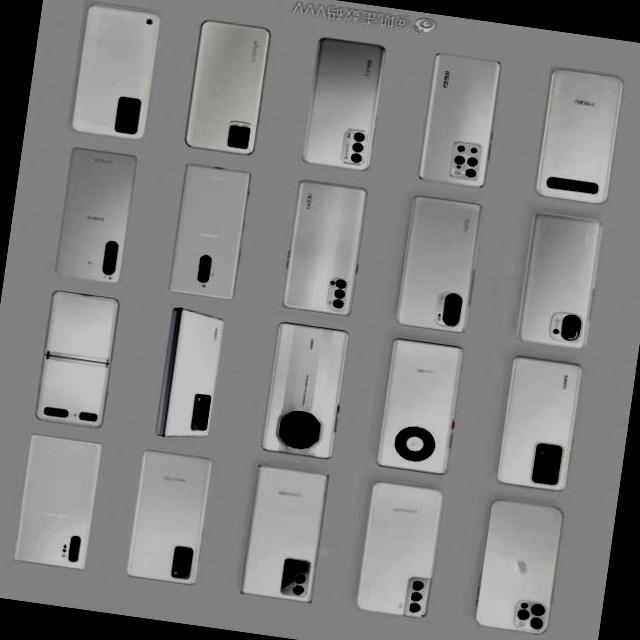lens_back: (442, 288, 462, 308), (528, 598, 546, 616), (561, 324, 579, 342), (405, 588, 426, 603), (407, 576, 426, 592), (288, 580, 304, 598), (441, 309, 458, 325), (528, 615, 544, 631), (348, 140, 366, 154), (349, 129, 367, 143), (514, 607, 529, 623), (406, 600, 423, 614), (294, 558, 308, 574), (347, 151, 363, 165), (462, 166, 477, 180), (331, 286, 348, 298), (331, 277, 348, 289), (102, 252, 119, 264), (452, 151, 466, 165), (199, 253, 214, 266), (292, 572, 308, 584), (278, 426, 292, 438), (103, 240, 117, 252), (564, 178, 576, 192), (544, 176, 558, 188), (465, 154, 479, 166), (198, 263, 212, 274), (178, 556, 190, 568), (180, 546, 192, 558), (70, 532, 82, 544), (280, 414, 292, 426), (564, 314, 576, 326), (330, 298, 342, 310), (198, 272, 210, 284), (101, 261, 113, 273), (67, 550, 78, 562), (548, 448, 560, 459), (177, 567, 188, 578), (192, 404, 202, 416), (68, 542, 79, 552), (80, 409, 90, 420), (586, 182, 596, 193), (226, 135, 236, 146), (238, 125, 248, 136), (548, 460, 558, 470), (420, 430, 430, 440), (238, 137, 248, 147), (306, 430, 315, 441), (86, 412, 97, 421), (400, 428, 410, 437), (399, 447, 409, 456), (576, 180, 585, 190), (305, 418, 316, 426), (198, 416, 206, 427), (202, 394, 210, 405), (467, 144, 478, 152), (230, 123, 238, 134), (556, 178, 564, 188), (420, 447, 427, 458), (547, 472, 554, 482), (201, 406, 208, 416)
phone: (252, 315, 354, 462), (61, 0, 164, 143), (5, 426, 104, 574), (274, 172, 372, 320), (370, 332, 468, 478), (488, 350, 587, 494), (470, 491, 567, 637), (509, 208, 608, 351), (28, 282, 124, 429), (530, 61, 626, 208), (350, 476, 444, 622), (236, 462, 330, 608), (180, 16, 274, 160), (298, 32, 391, 176), (50, 143, 142, 288), (392, 192, 484, 336), (123, 446, 213, 590), (162, 159, 252, 303), (416, 48, 502, 190), (144, 300, 226, 442)
